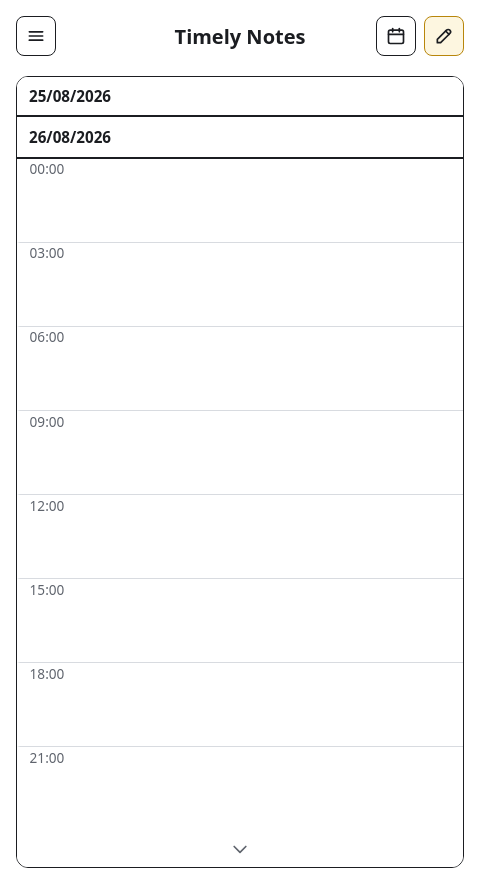
Test case: App — live clock › carries the way back inside the status region, so the move is still announced
(page scrolled)
Click the button named "Later days" at [240, 849], box left=17, top=831, right=463, bottom=867
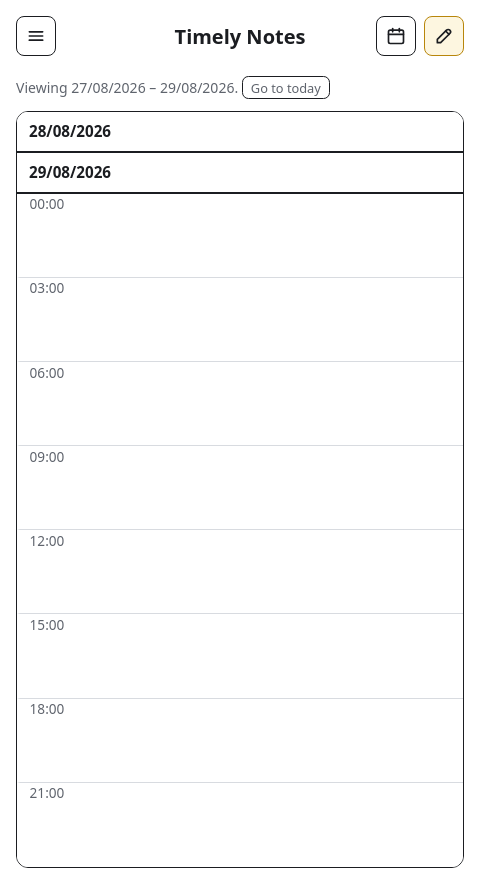
Now the message shows "Viewing 27/08/2026 – 29/08/2026.", box left=16, top=76, right=330, bottom=99
Now the button "Go to today" is shown, box left=242, top=76, right=330, bottom=99
